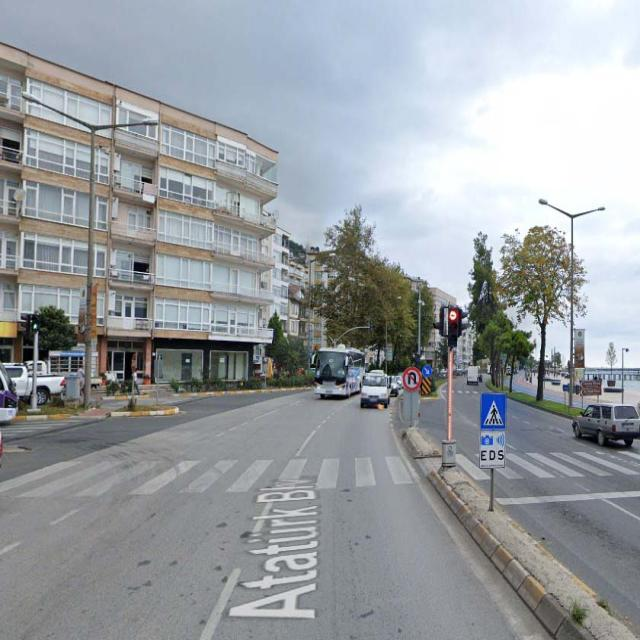kirmizi: (447, 309, 457, 345)
